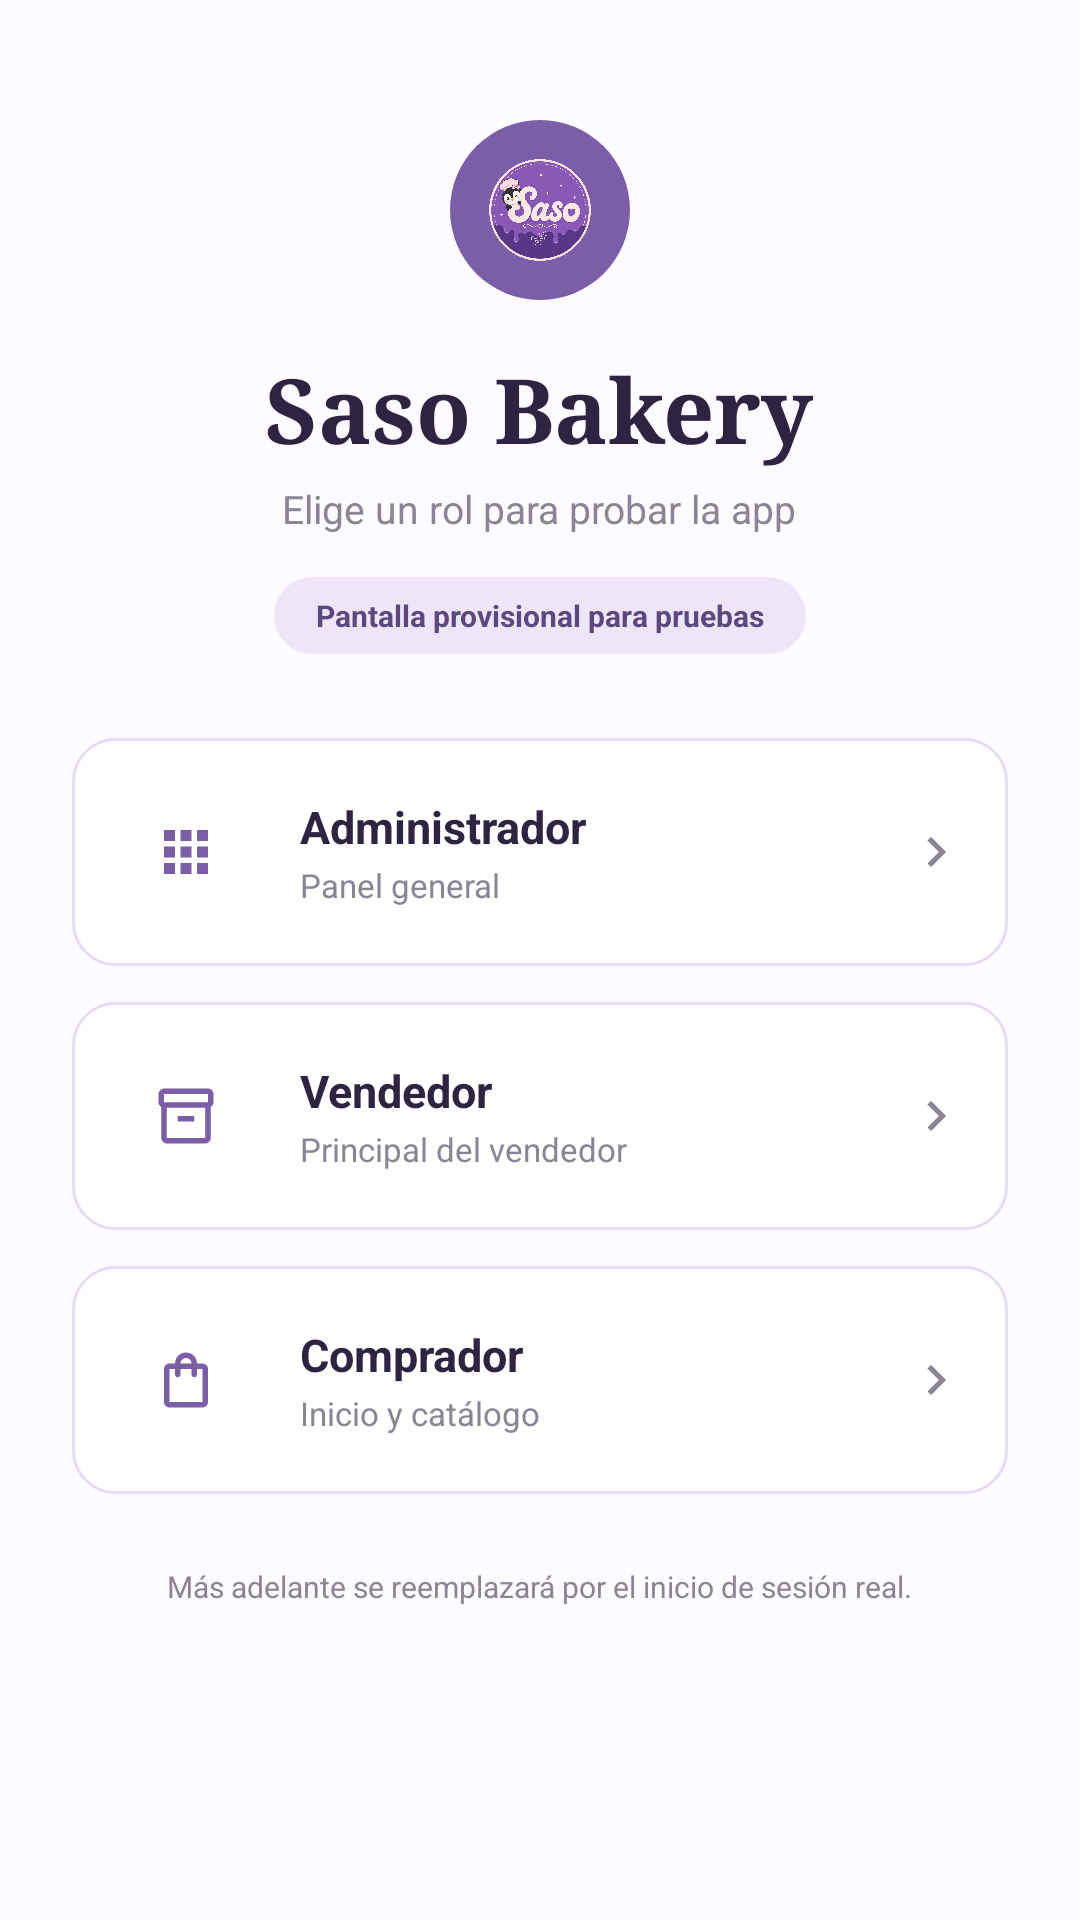

Locate icon controls on the screen. Image size 1080×1920, boxes as (x1, y1, x2, y2).
bag: (164, 1352, 208, 1408)
box: (158, 1088, 214, 1144)
chevron right: (927, 837, 946, 867), (927, 1101, 946, 1131), (927, 1365, 946, 1395)
grid: (164, 830, 208, 874)
